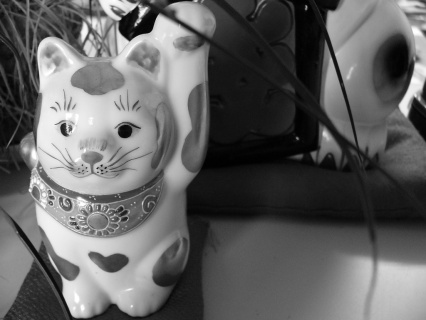Cat: (15, 0, 217, 317)
